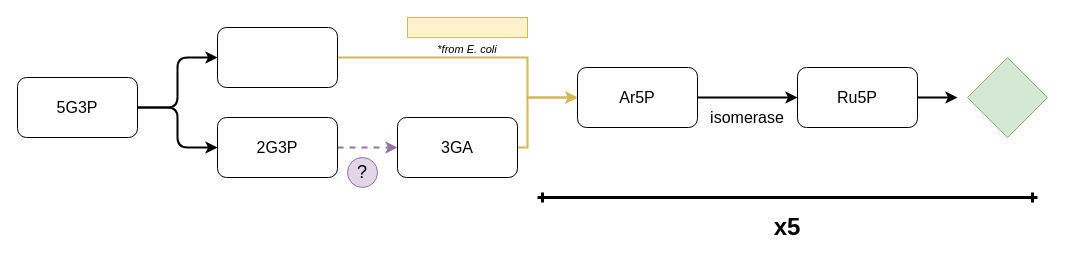
Some shapes in this 1065 by 275 pixel diagram are drawn without their labels. Here are the shapes that lost their labels. From the top down, the box of each, then its label:
(406, 16, 528, 38): F6P aldolase
(216, 26, 338, 88): 3G3P
(966, 56, 1048, 138): RuBP
